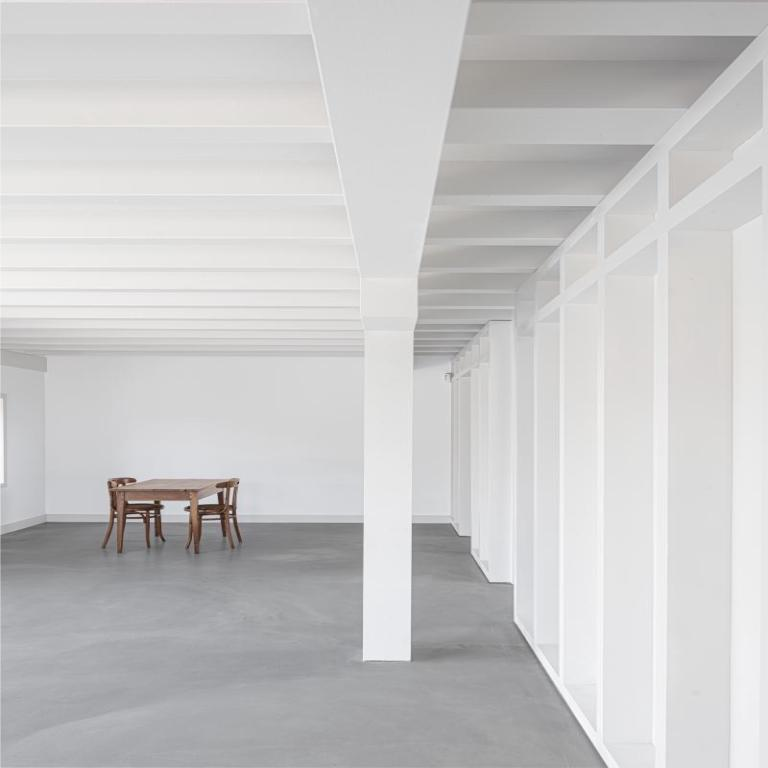white-walls: (13, 369, 443, 515)
